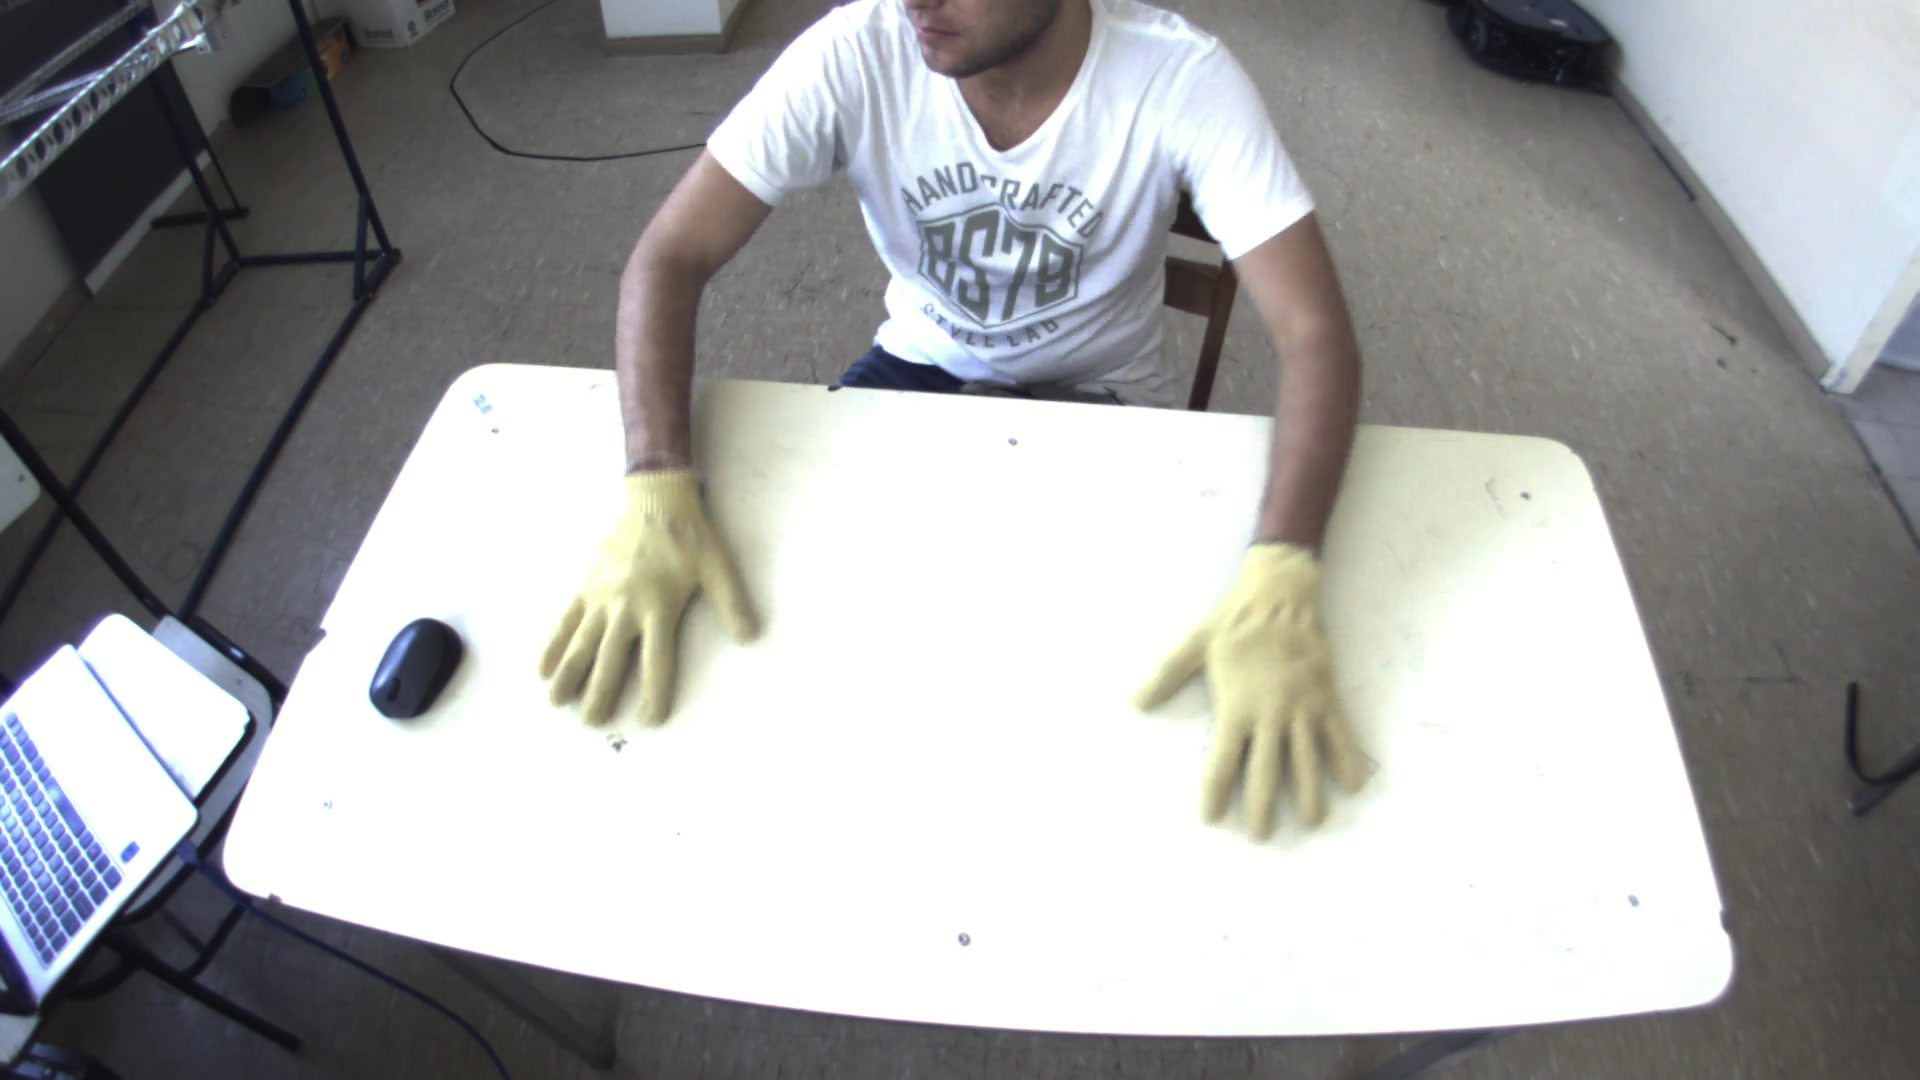hand: (1131, 534, 1385, 853), (518, 454, 764, 749)
